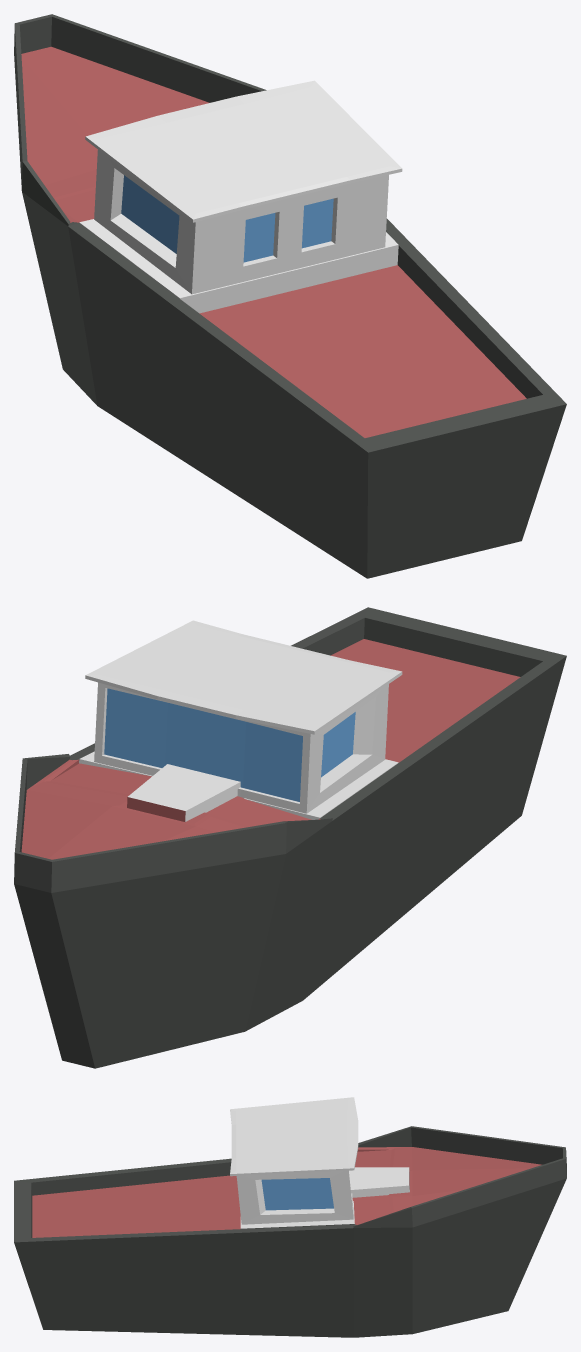
The model's file is ship2.glb.
3 renders of one model, top to bottom at view 1: azimuth 30°, elevation 25°; view 2: azimuth 150°, elevation 25°; view 3: azimuth 270°, elevation 25°, orthographic. The views are drawn at different scales.
Parts seen in each view (by area): view 1: Cube; view 2: Cube; view 3: Cube.
Boxes of the visible parts, x1,y1,x2,y2 form: Cube: [14, 14, 566, 578]; Cube: [14, 607, 566, 1068]; Cube: [14, 1097, 566, 1337].
Size of the model in its own units: 1.3 by 1.28 by 3.71.
